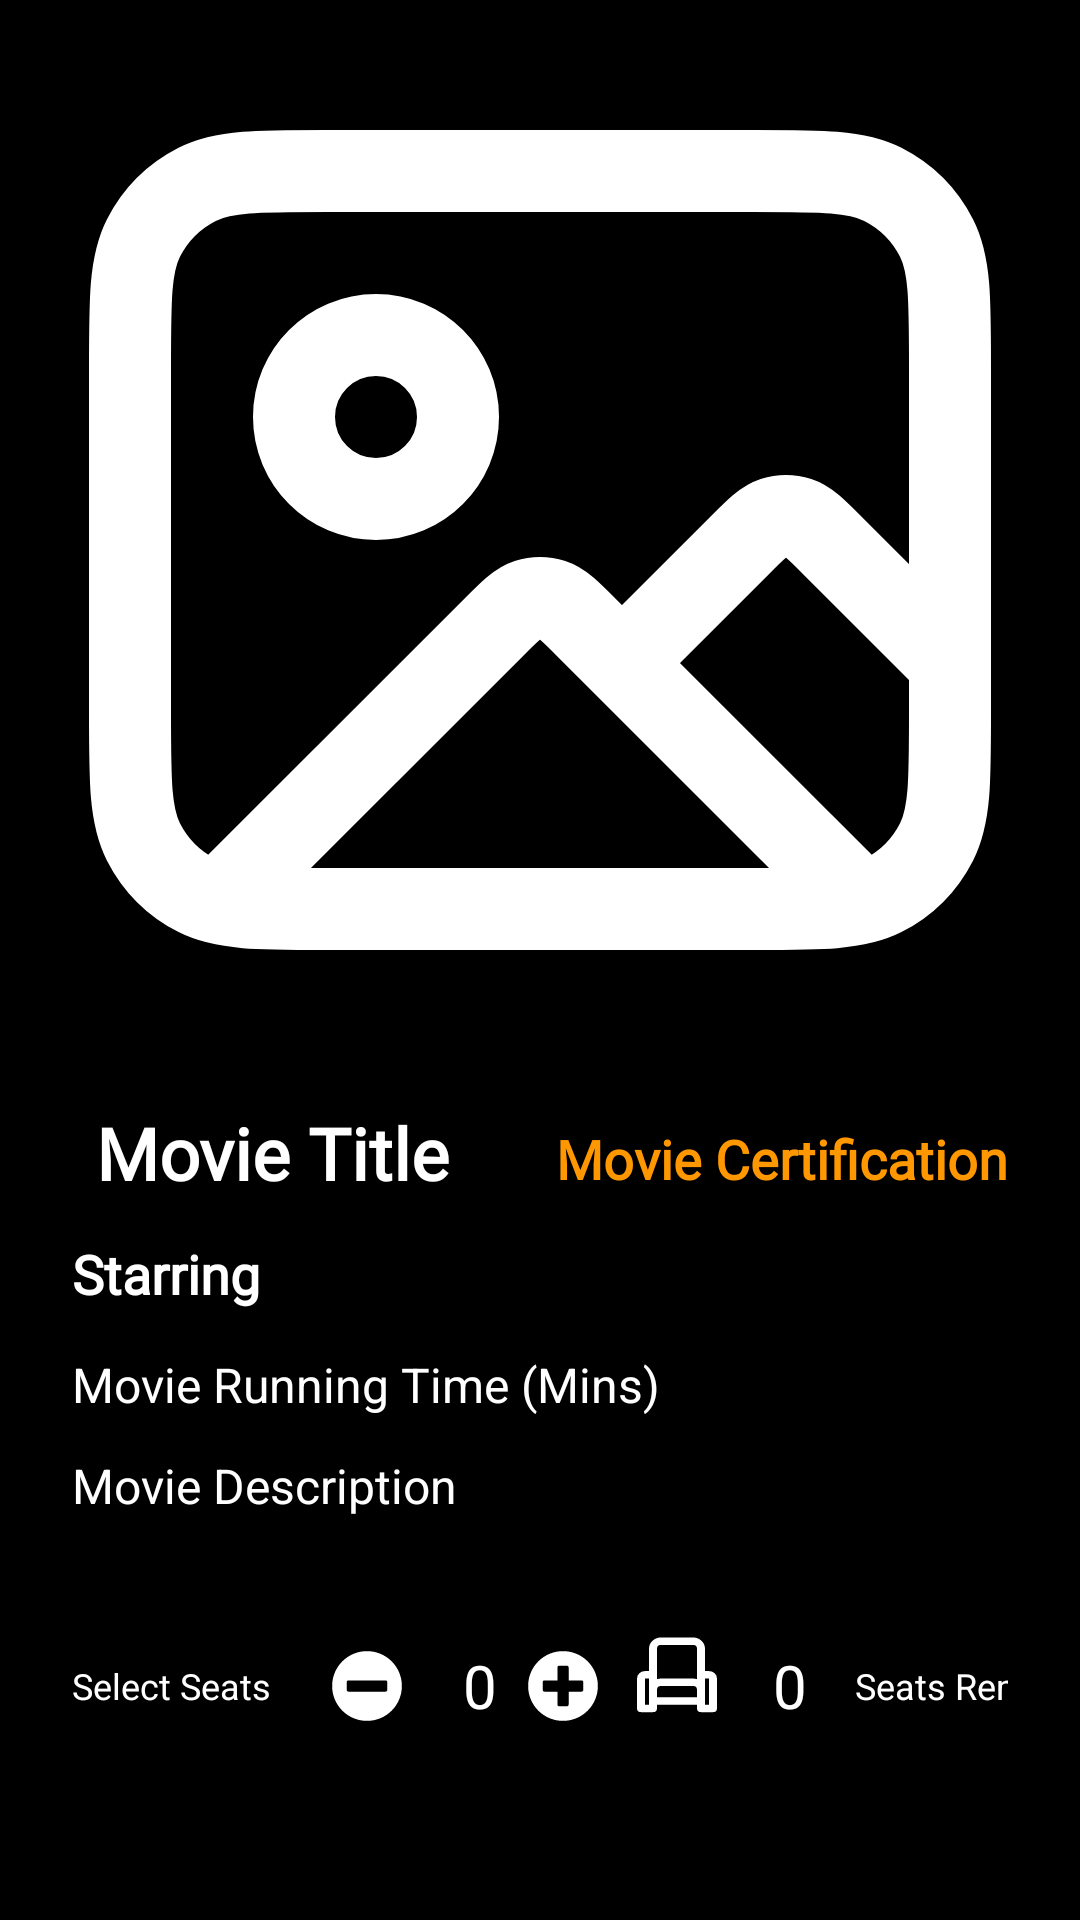

Icons on this 1080px×1920px Android screen, each with the point to tap as point (x, y):
minus button Icon: point (367, 1686)
plus button icon: point (563, 1686)
